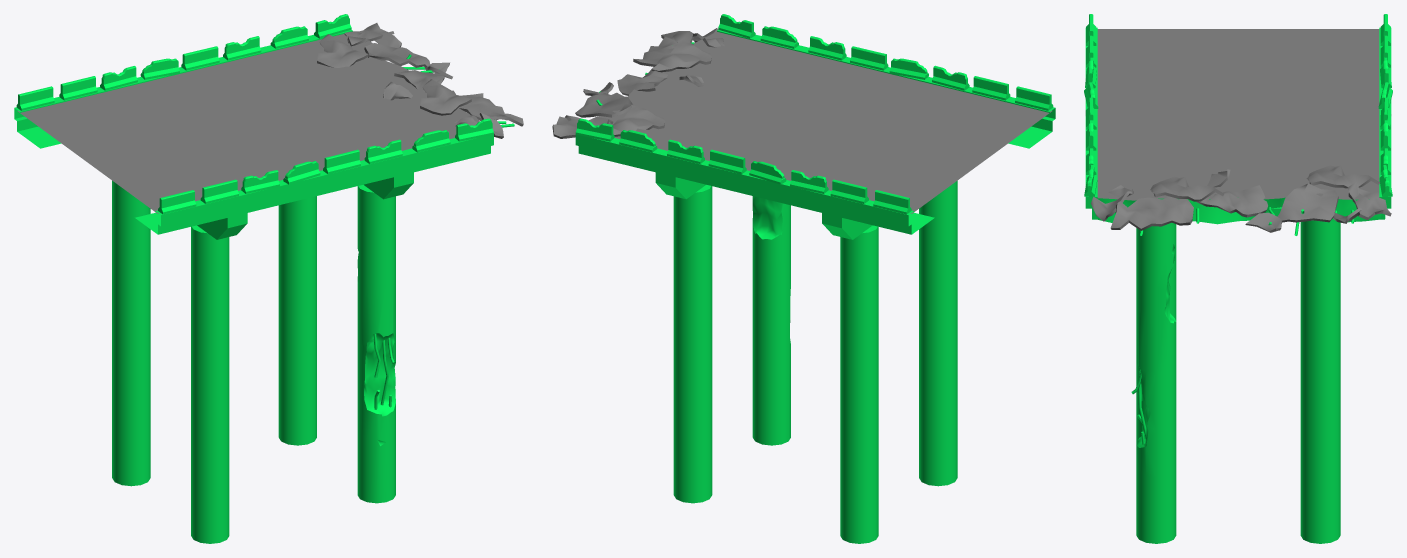
The model's file is Track_Asphalt_01_End.fbx.
The picture shows the model from 3 angles, left to right: view 1: azimuth 30°, elevation 25°; view 2: azimuth 150°, elevation 25°; view 3: azimuth 270°, elevation 25°; orthographic projection. The views are drawn at different scales.
Parts seen in each view (by area): view 1: Track_Asphalt_01_End, Road1; view 2: Track_Asphalt_01_End, Road1; view 3: Road1, Track_Asphalt_01_End.
Boxes of the visible parts, x1,y1,x2,y2 form: Track_Asphalt_01_End: (14, 14, 514, 543); Road1: (17, 23, 523, 213); Track_Asphalt_01_End: (575, 14, 1055, 543); Road1: (552, 28, 1051, 213); Road1: (1091, 29, 1391, 232); Track_Asphalt_01_End: (1084, 14, 1392, 543).
Size of what is drawn, in the model's own units: 3429 by 2314 by 3273.
